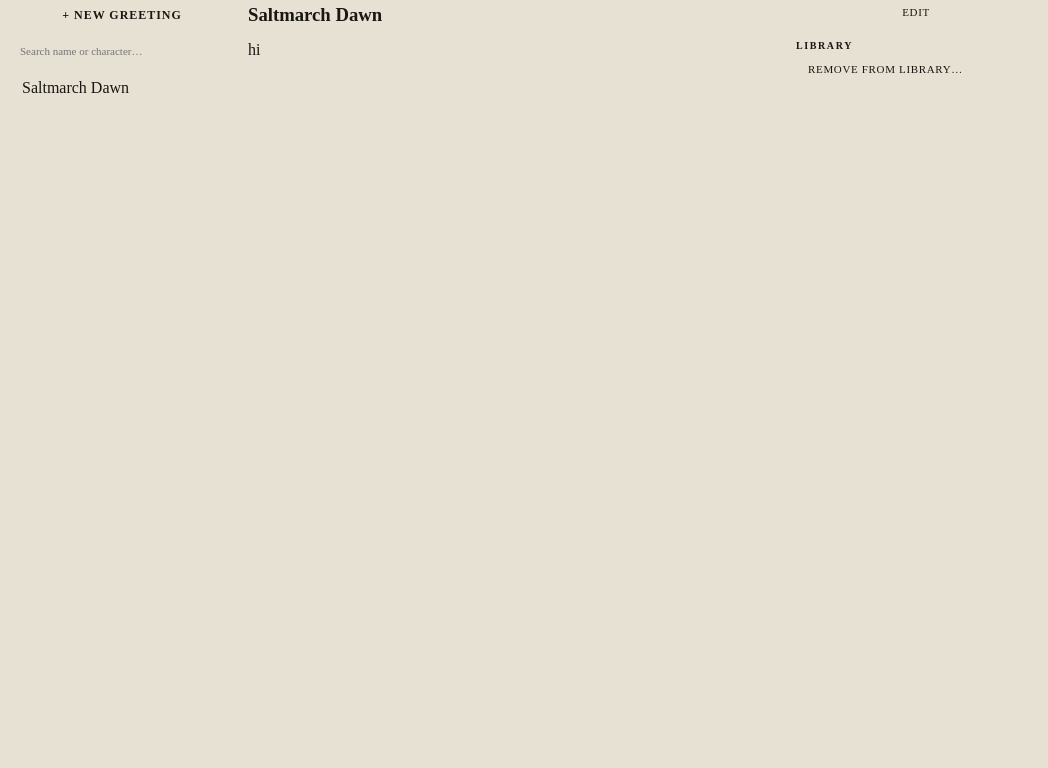
the editor holds still while the map's own write is on the wire
Click the button "Edit": [916, 12] box [796, 0, 1036, 24]
(page scrolled)
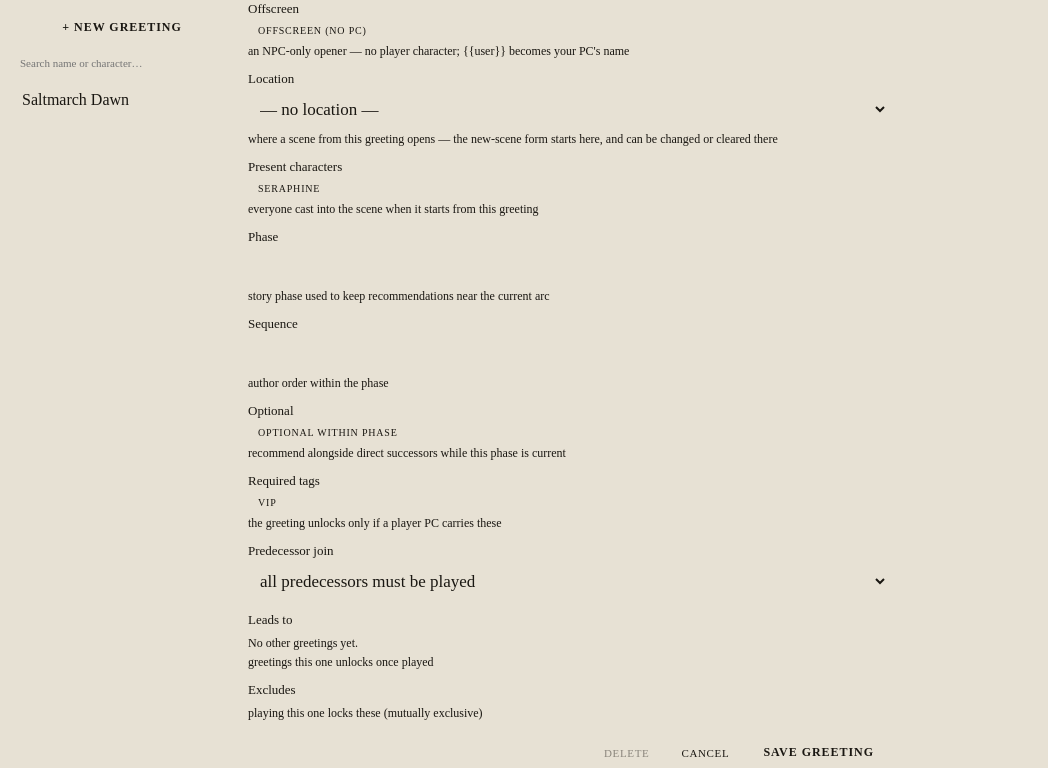
Expected: the button "Save greeting" is disabled, [749, 737, 888, 767]
